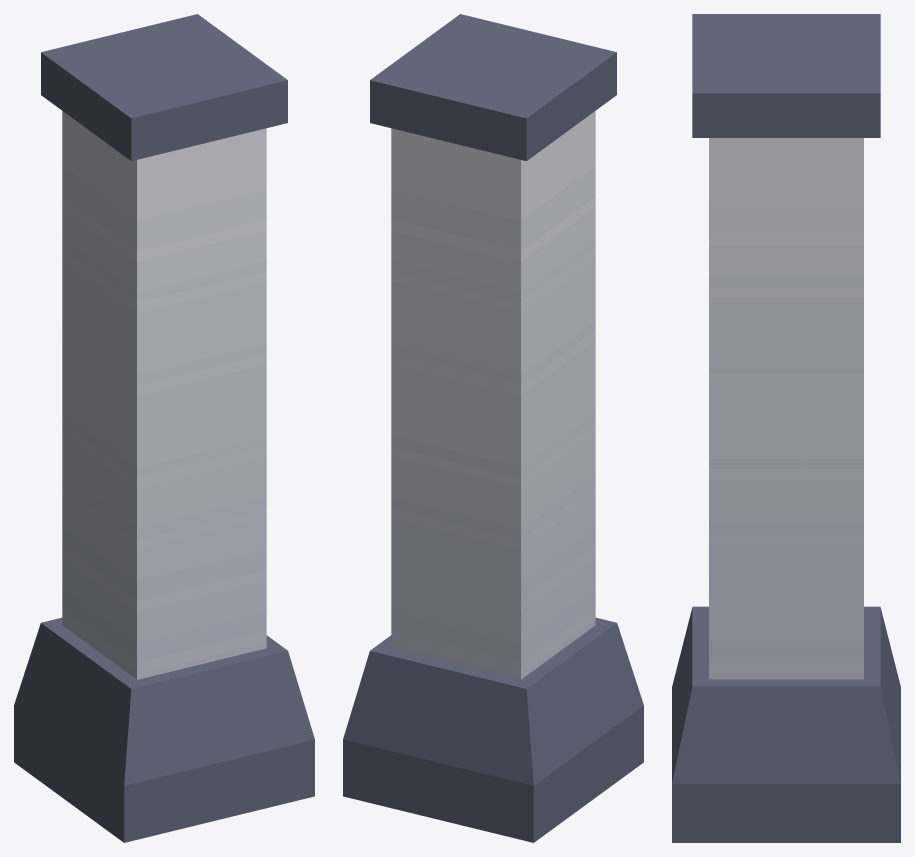
The model's file is bridge-pillar-wide.glb.
The picture shows the model from 3 angles, left to right: view 1: azimuth 30°, elevation 25°; view 2: azimuth 150°, elevation 25°; view 3: azimuth 270°, elevation 25°; orthographic projection. The views are drawn at different scales.
Parts seen in each view (by area): view 1: bridge-pillar-wide; view 2: bridge-pillar-wide; view 3: bridge-pillar-wide.
Boxes of the visible parts, left/top/right/bottom form: bridge-pillar-wide: left=14, top=14, right=314, bottom=842; bridge-pillar-wide: left=343, top=14, right=643, bottom=842; bridge-pillar-wide: left=672, top=14, right=900, bottom=842.
Size of the model in its own units: 0.14 by 0.5 by 0.14.
1 material, 1 textured.
